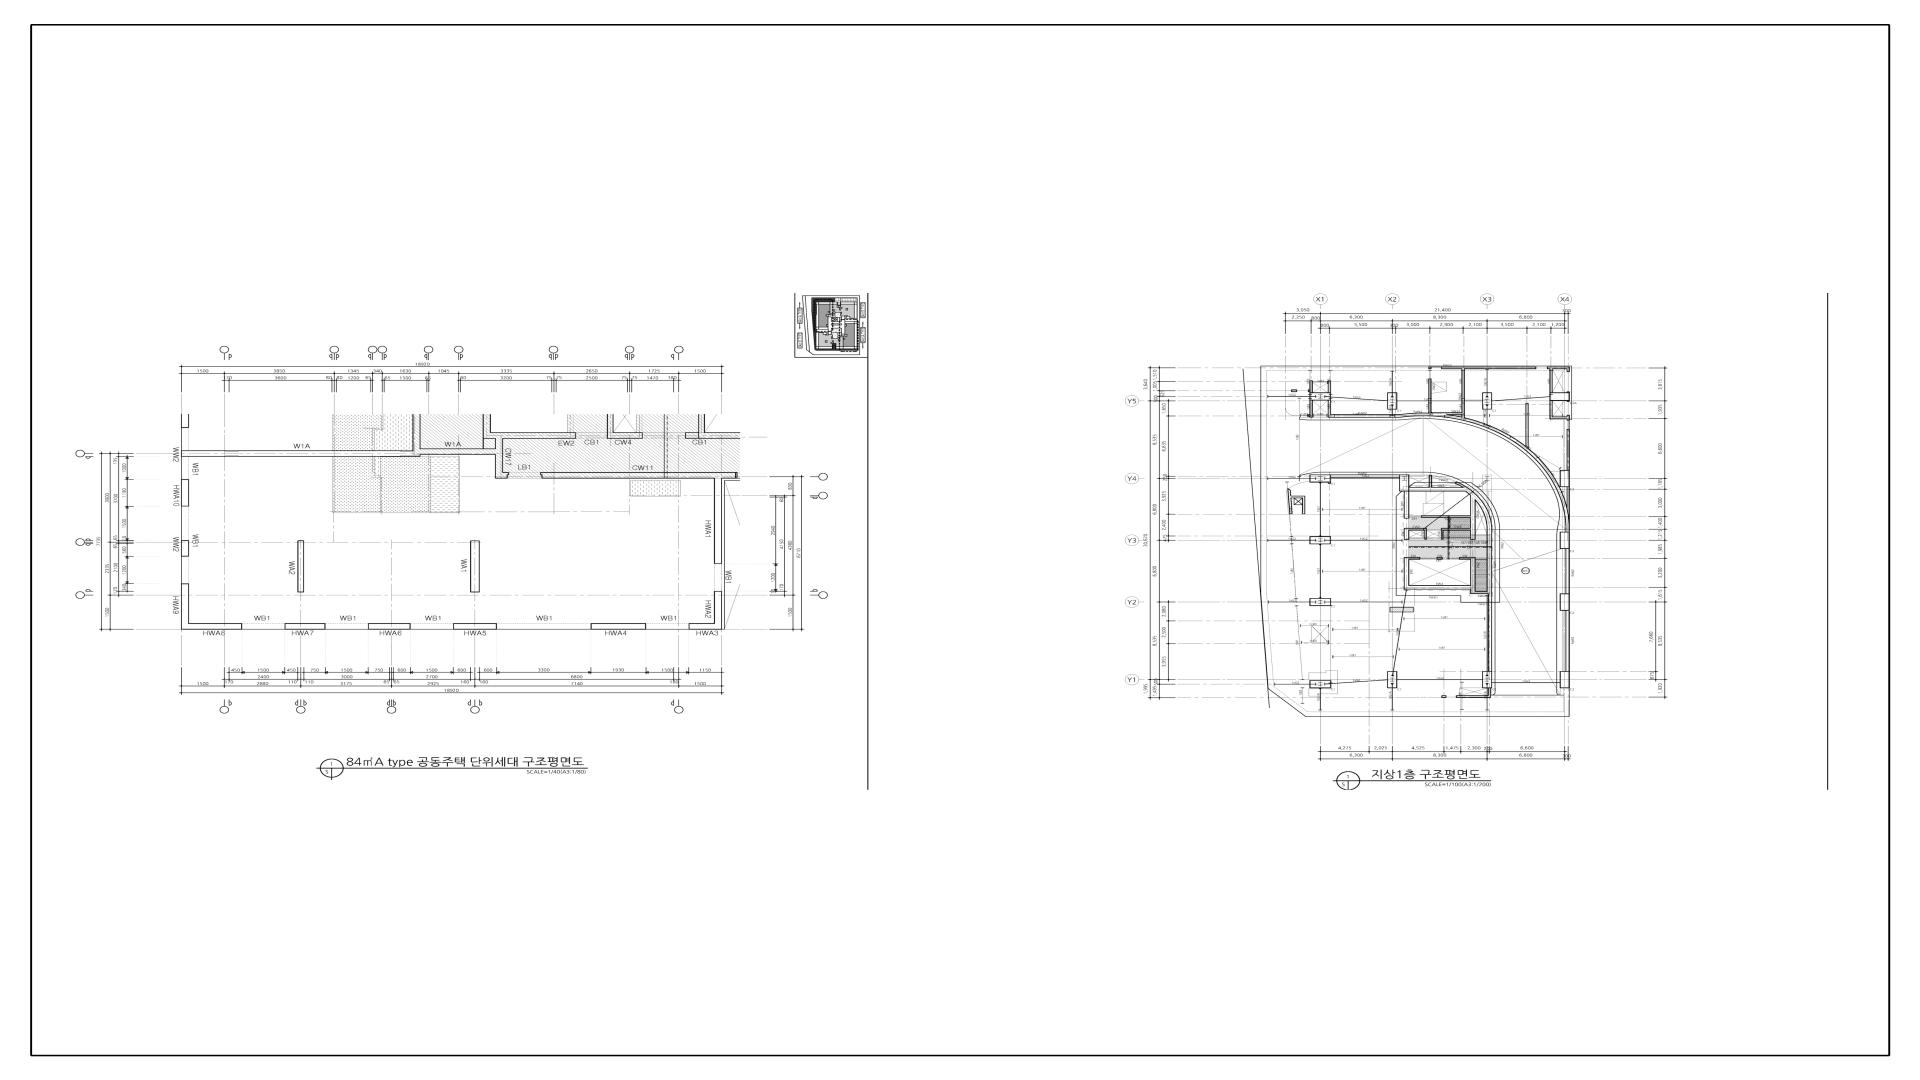wall: (1400, 414, 1570, 549), (1409, 481, 1492, 671), (1400, 369, 1465, 415), (181, 584, 242, 630), (181, 449, 496, 457), (483, 414, 576, 439), (1404, 557, 1470, 590), (685, 414, 740, 439), (689, 591, 722, 630), (540, 472, 737, 478), (607, 414, 643, 439), (714, 478, 722, 564), (1470, 560, 1487, 594), (1547, 367, 1570, 392), (495, 439, 509, 478), (470, 541, 480, 593), (1288, 488, 1305, 514), (591, 623, 646, 630), (1550, 401, 1570, 420), (297, 540, 304, 592), (1456, 688, 1491, 698), (453, 623, 497, 630), (368, 623, 411, 630), (285, 623, 326, 630), (413, 414, 421, 449), (1404, 528, 1427, 540), (1331, 414, 1400, 418), (1470, 495, 1476, 540), (1566, 611, 1570, 671), (181, 479, 189, 507), (1331, 475, 1399, 478), (1441, 367, 1536, 369), (1550, 392, 1570, 401), (1566, 549, 1570, 594), (1387, 392, 1397, 410), (1482, 392, 1492, 410), (1309, 536, 1331, 544), (1387, 671, 1397, 688), (1482, 671, 1492, 688), (1560, 470, 1570, 487), (1560, 594, 1570, 611), (1560, 671, 1570, 688), (1399, 475, 1409, 492), (1310, 598, 1331, 606), (1310, 680, 1331, 688), (1310, 392, 1331, 400), (1310, 475, 1331, 483), (1421, 515, 1470, 518), (1404, 491, 1409, 519), (181, 540, 189, 557), (1428, 379, 1432, 413), (1526, 403, 1529, 448), (1567, 429, 1570, 470), (1390, 607, 1414, 612), (1441, 528, 1470, 531), (1310, 400, 1313, 418), (1328, 400, 1331, 418), (1459, 557, 1476, 560), (1310, 380, 1313, 392), (1328, 380, 1331, 392), (1429, 475, 1432, 487), (1441, 531, 1444, 540), (1437, 557, 1443, 560), (1291, 389, 1297, 392), (1568, 420, 1570, 429), (1441, 695, 1446, 698)
